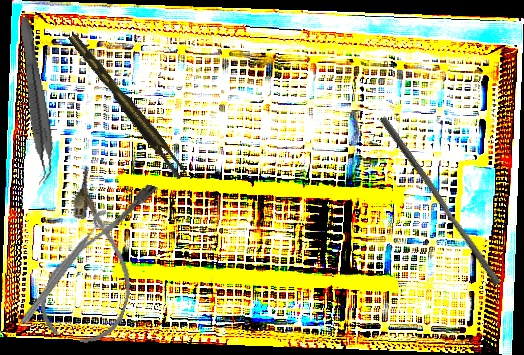Cannula: (33, 164, 163, 352)
Fixation Ring: (16, 206, 120, 333)
Pusher: (372, 115, 508, 287)
Tissue Forceps: (68, 27, 188, 184), (9, 15, 61, 185)
